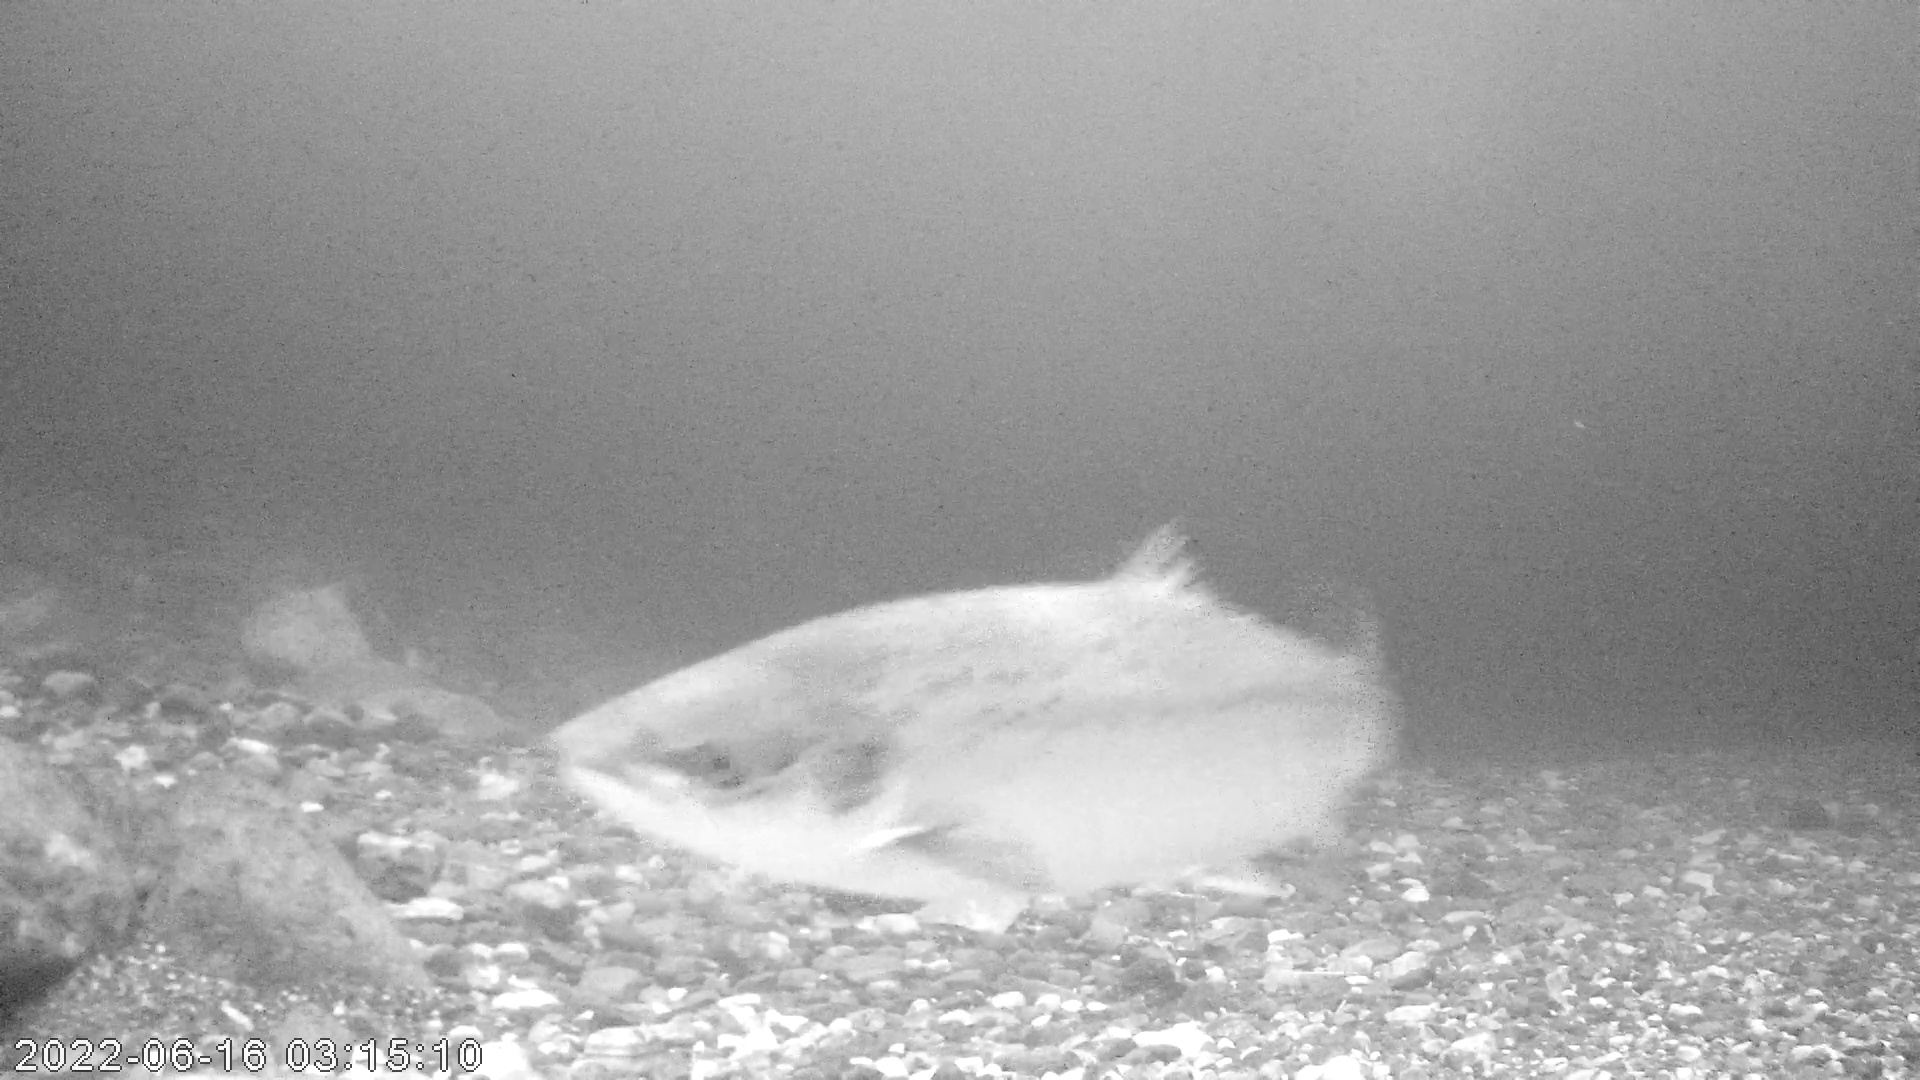salmon: (535, 512, 1406, 916)
